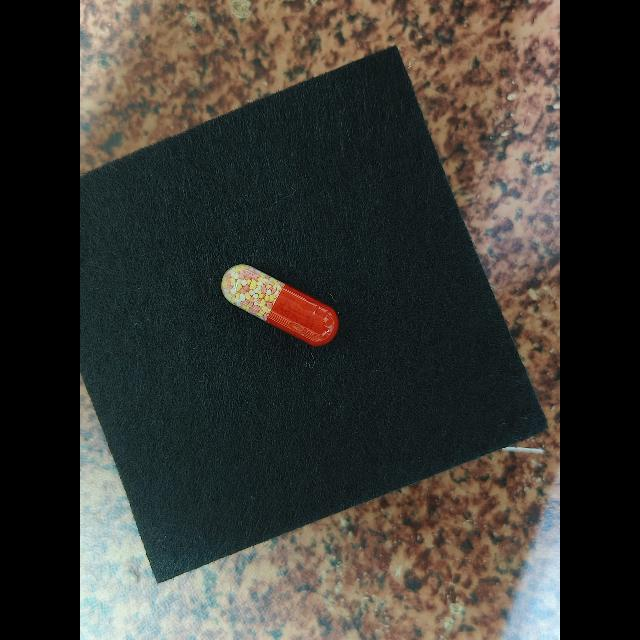Intact Capsule: (221, 264, 339, 346)
